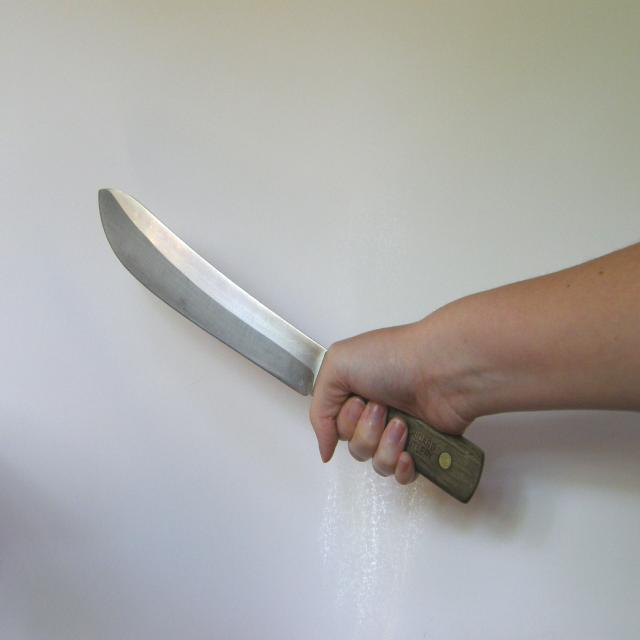knife: (90, 179, 486, 507)
